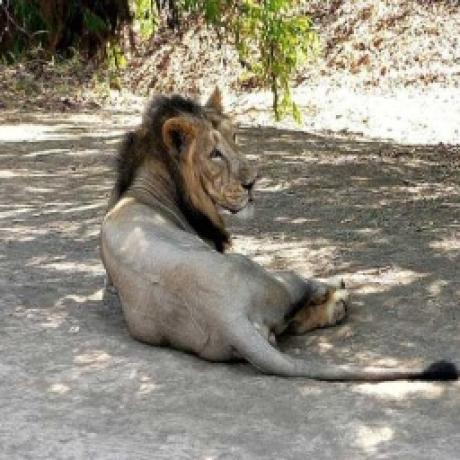Lion: (95, 90, 460, 384)
